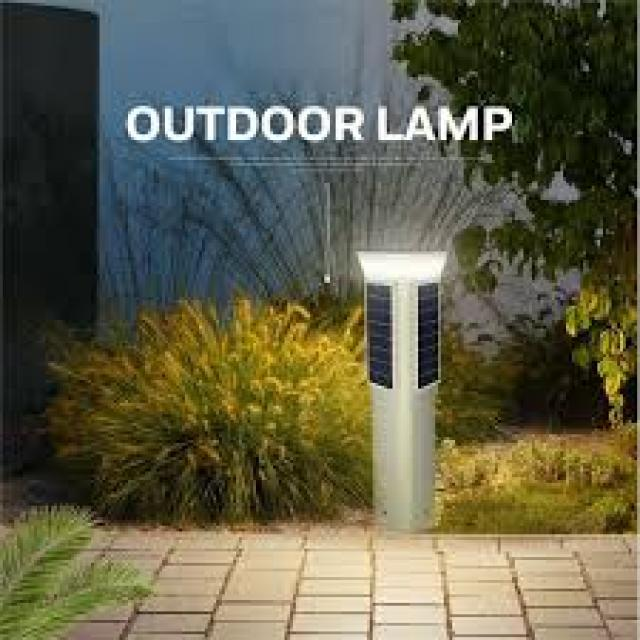bollard: (352, 239, 454, 541)
